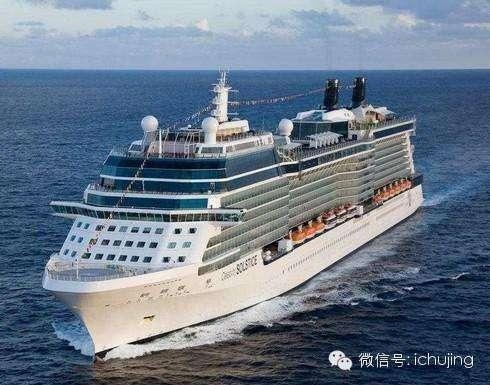youlun: (41, 65, 424, 354)
